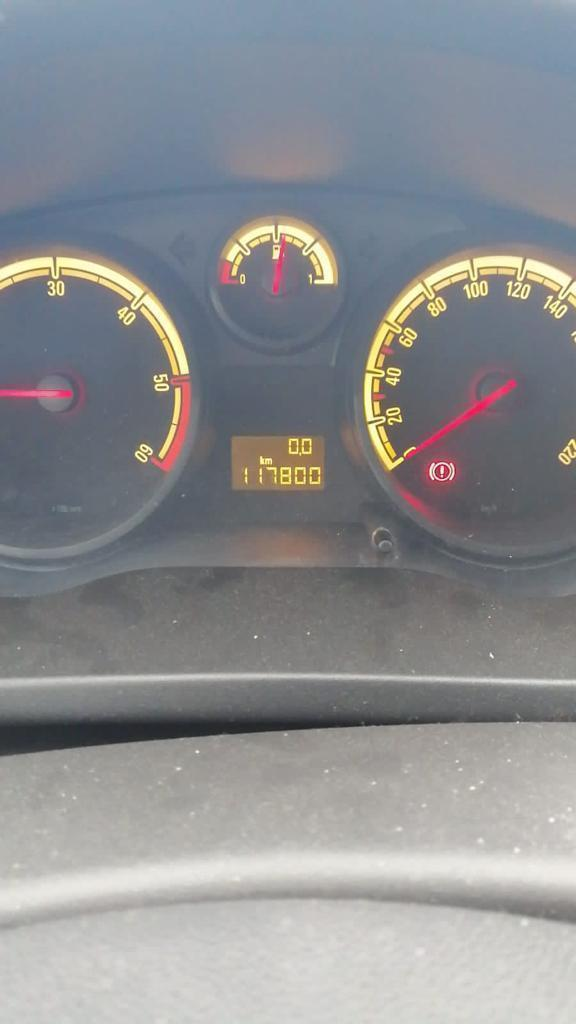,: (299, 451, 301, 457)
0: (294, 464, 306, 485), (309, 466, 321, 485), (301, 436, 312, 455), (288, 436, 298, 454)
1: (243, 465, 249, 486), (258, 466, 263, 486)
7: (265, 466, 277, 484)
8: (279, 465, 292, 485)
X: (265, 456, 273, 465), (259, 455, 264, 464)
odometer: (226, 428, 329, 492)
